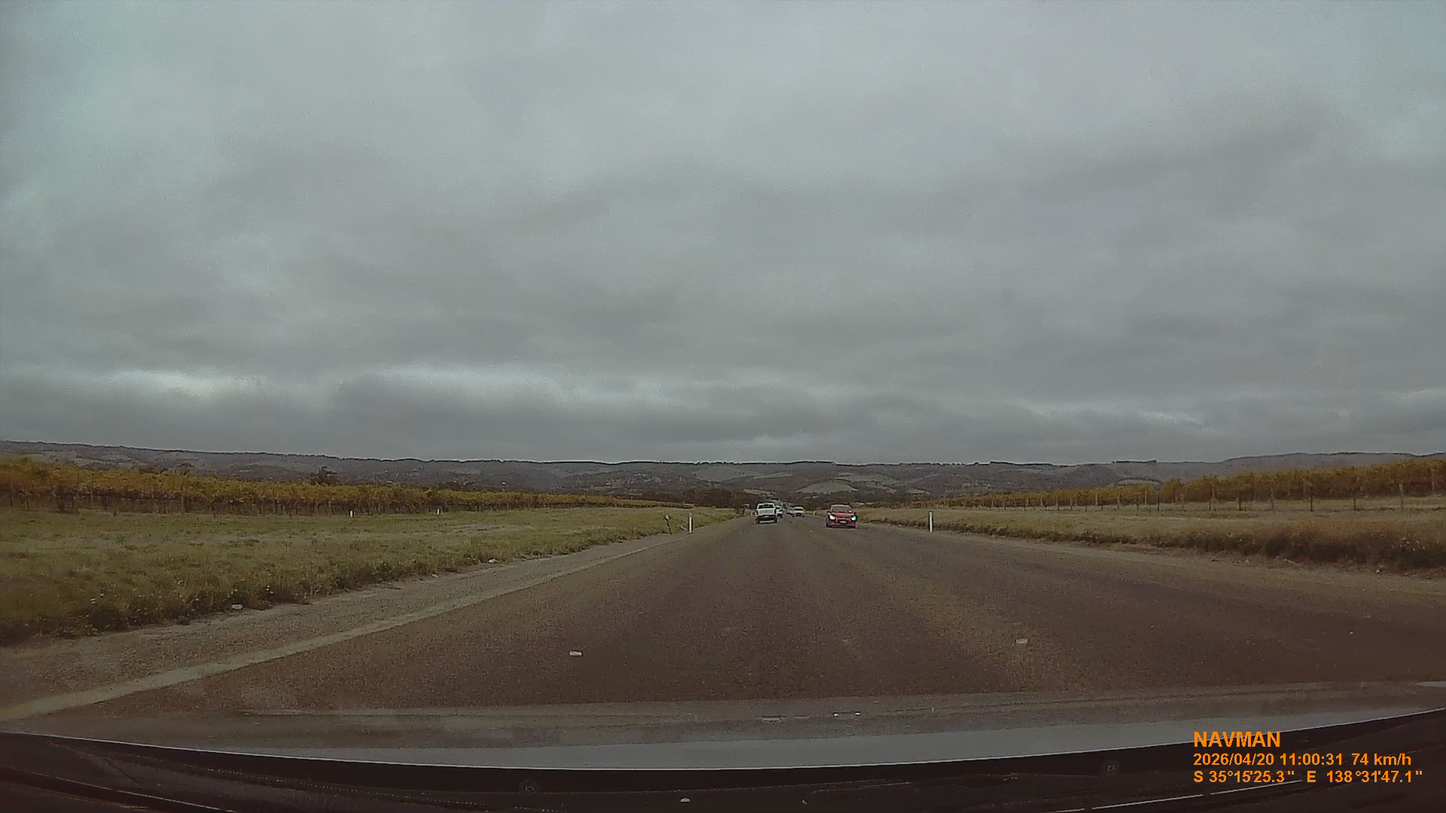fences: (929, 510, 934, 531)
